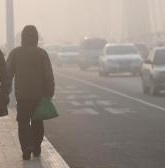person: (5, 23, 60, 161)
